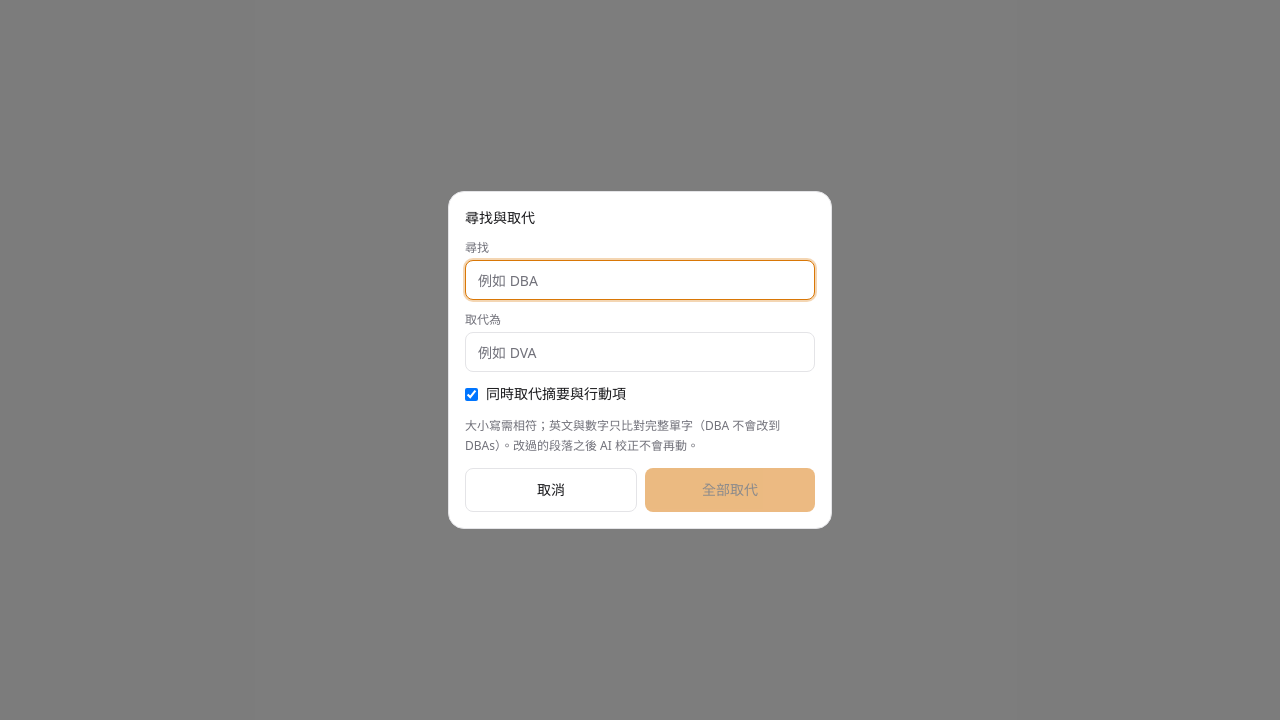
it: TranscriptReplaceSheet › 取消勾選摘要時只預覽逐字稿
Click the checkbox labelled "同時取代摘要與行動項" at (472, 394), box [465,388,478,400]
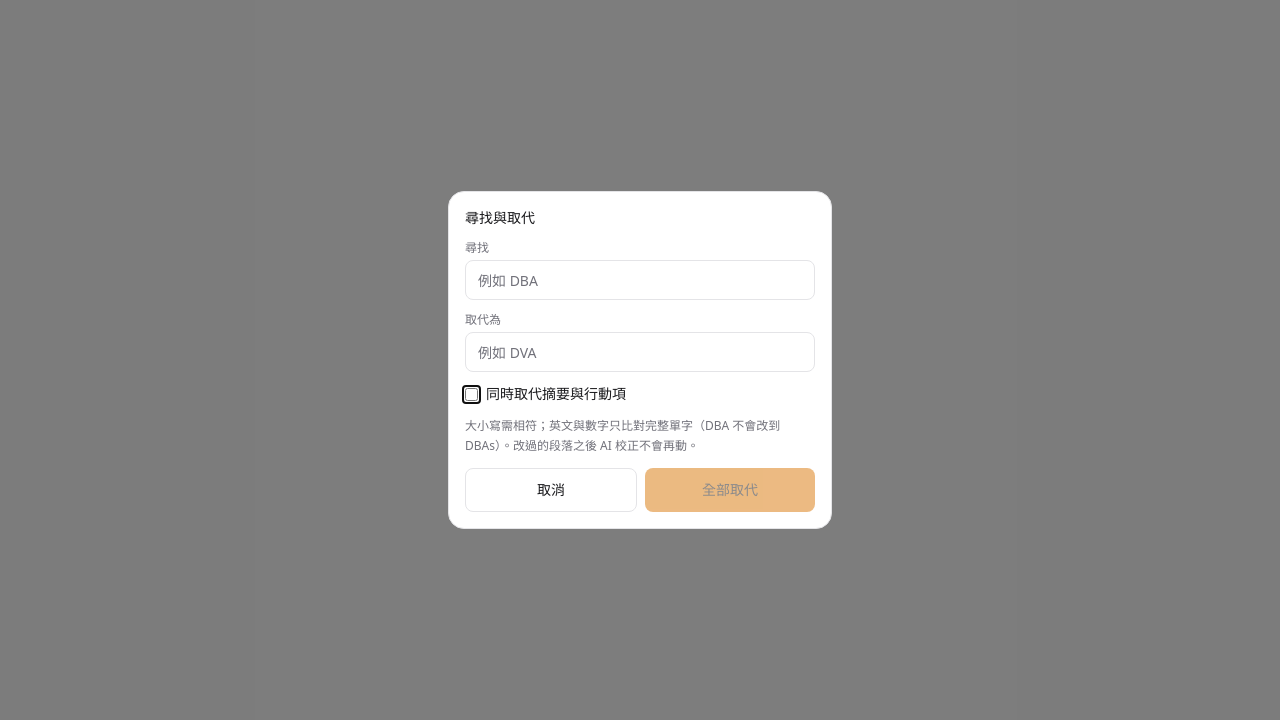
Type "DBA" into the field labelled "尋找" at (640, 280), box [465,260,815,300]
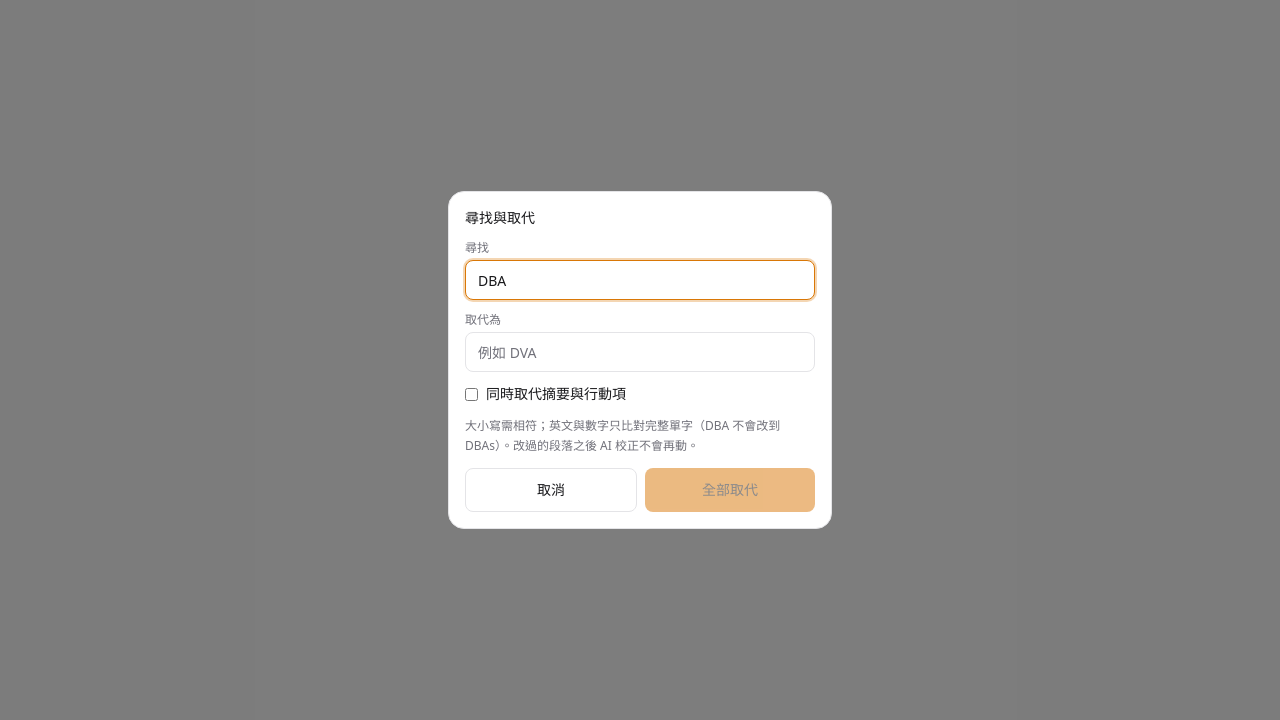
Type "DVA" into the field labelled "取代為" at (640, 352), box [465,332,815,372]
Wait 500 ms
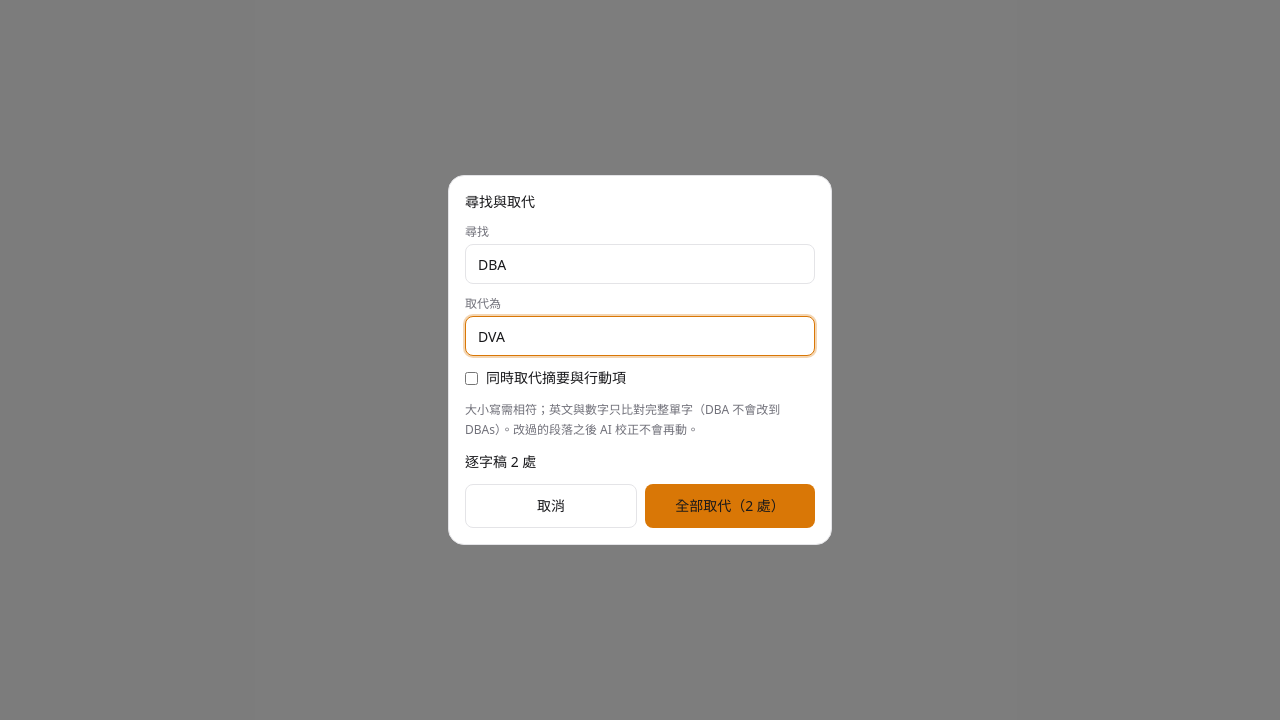
Now the text "逐字稿 2 處" is shown, box [465,452,536,471]
